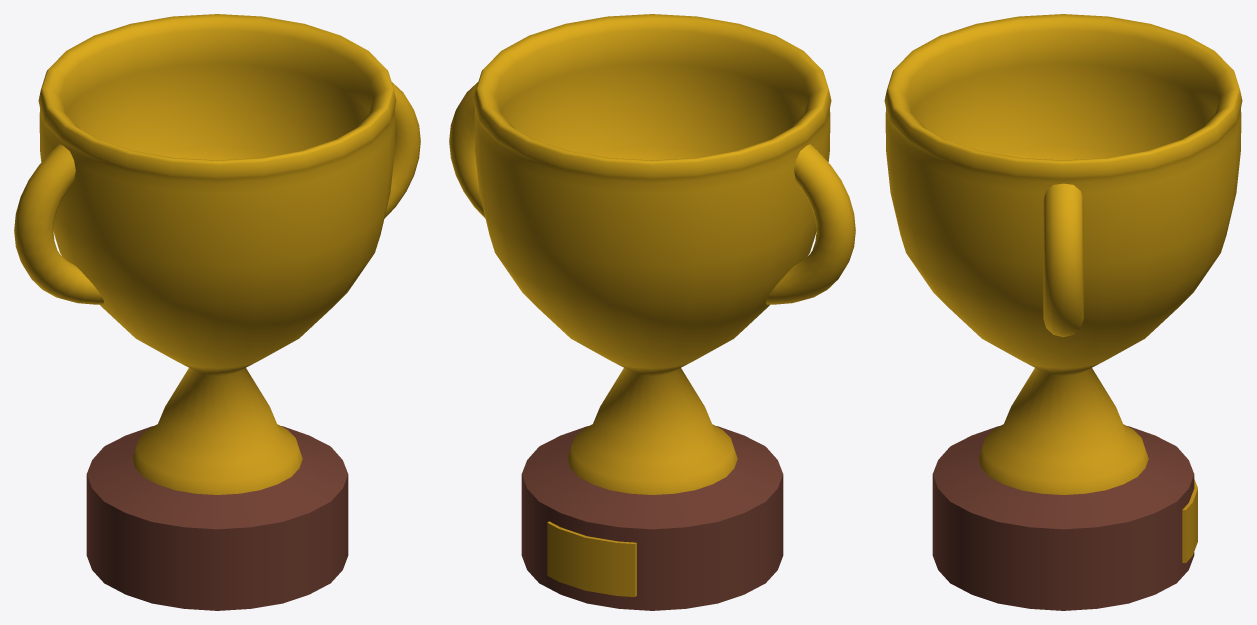
Rendered from Trophy.fbx.
3 views of the same model, side by side, from view 1: azimuth 30°, elevation 25°; view 2: azimuth 150°, elevation 25°; view 3: azimuth 270°, elevation 25° (orthographic).
Parts seen in each view (by area): view 1: Trophy; view 2: Trophy; view 3: Trophy.
Boxes of the visible parts, <box> form: Trophy: <box>14,14,420,610</box>; Trophy: <box>449,14,855,610</box>; Trophy: <box>884,14,1242,610</box>.
Size of the model in its own units: 215 by 240 by 166.
